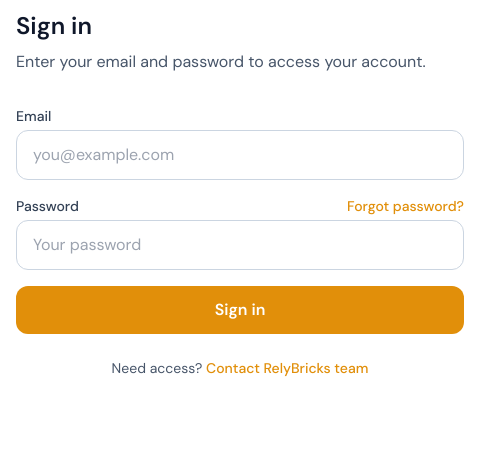
Scenario: LoginPage › sends a reset email to this site's reset page
Type "owner@example.com" into the field labelled "Email".
click(240, 155); type("owner@example.com")  # box [16,130,464,180]
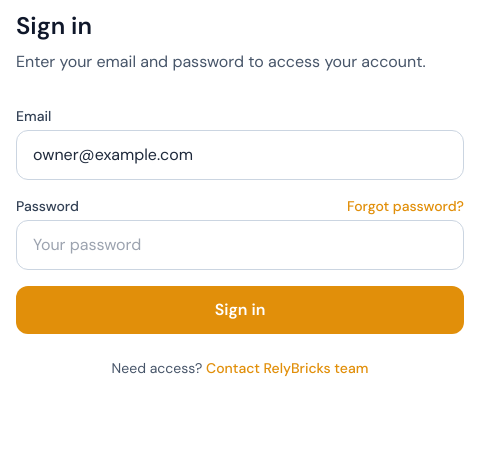
Click the button "Forgot password?".
click(405, 206)  # box [347,196,464,216]
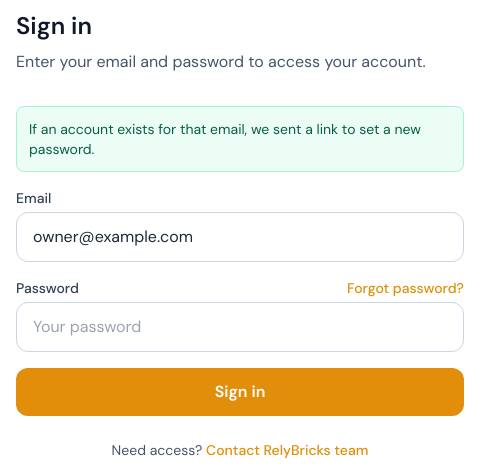
Result: the text "If an account exists for that email, we sent a link to set a new password." is shown at [16,106,464,172]
